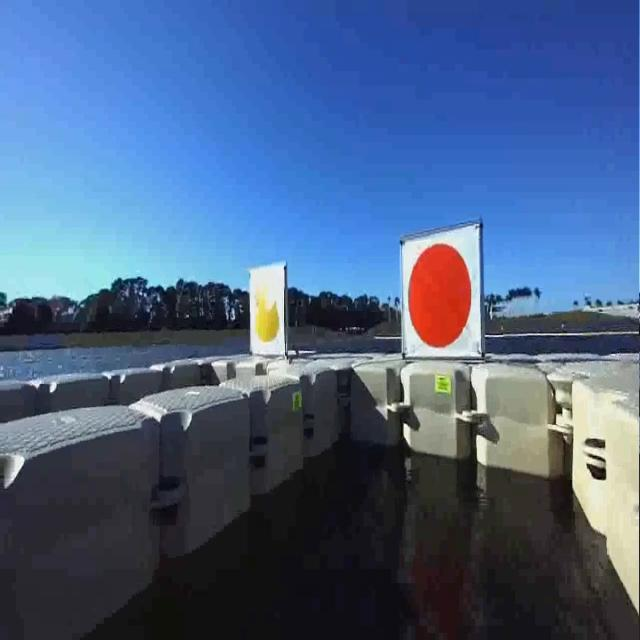red-dot: (400, 227, 476, 353)
yellow-duck: (250, 267, 286, 360)
